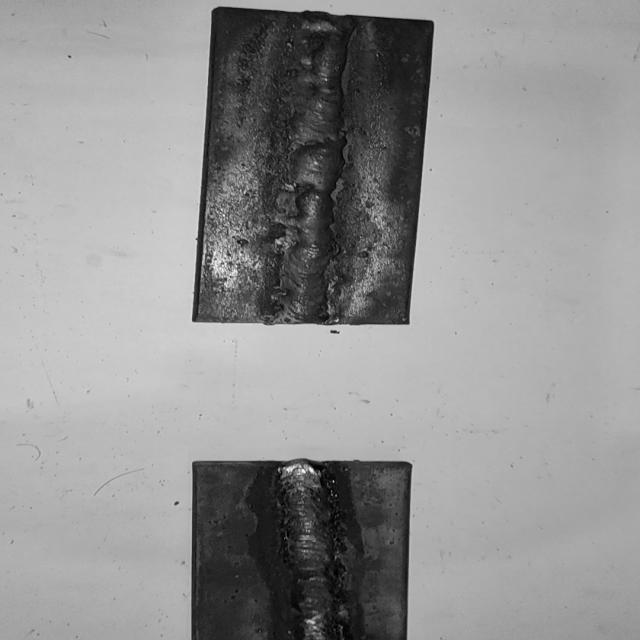Defect: (286, 15, 353, 106), (280, 176, 344, 258)
Welding Line: (280, 17, 354, 318), (279, 467, 339, 640)
Workpiece: (185, 6, 438, 330), (182, 456, 412, 640)
